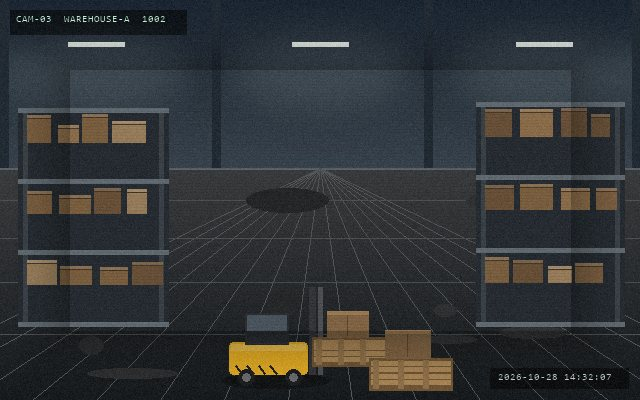forklift: (225, 285, 349, 388)
pallet: (367, 356, 454, 392), (310, 335, 389, 368)
shelf: (476, 102, 624, 322), (18, 108, 168, 322)
